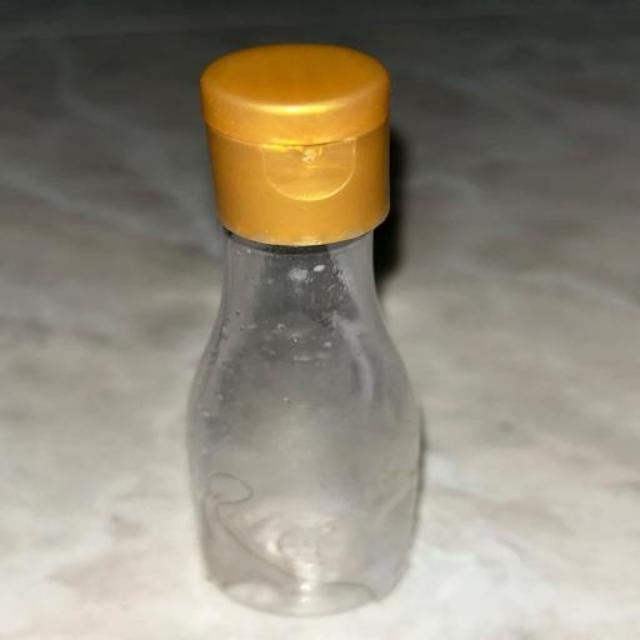PET: (126, 34, 536, 630)
